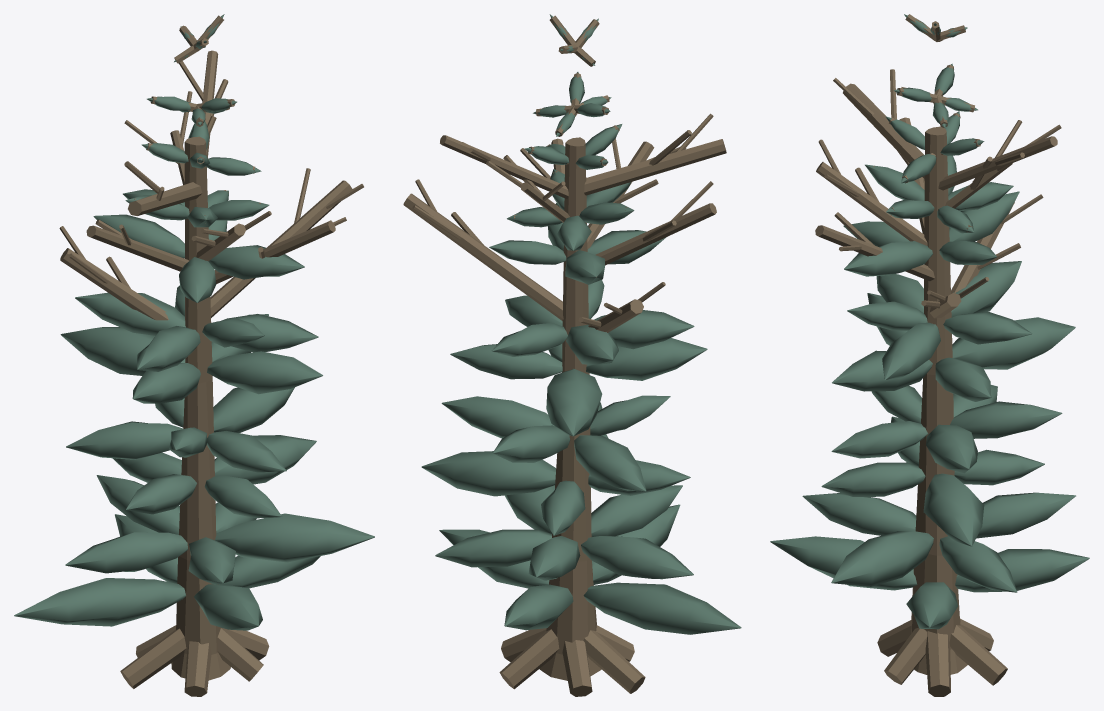
Rendered from conifer_a.glb.
3 renders of one model, left to right at view 1: azimuth 30°, elevation 25°; view 2: azimuth 150°, elevation 25°; view 3: azimuth 270°, elevation 25°, orthographic.
Visible parts, largest first — view 1: conifer_a LOD0; view 2: conifer_a LOD0; view 3: conifer_a LOD0.
Boxes of the visible parts, left/top/right/bottom form: conifer_a LOD0: left=14, top=14, right=374, bottom=696; conifer_a LOD0: left=403, top=14, right=741, bottom=696; conifer_a LOD0: left=770, top=14, right=1089, bottom=696.
Size of what is drawn, in the model's own units: 5.6 by 10.38 by 4.57.
